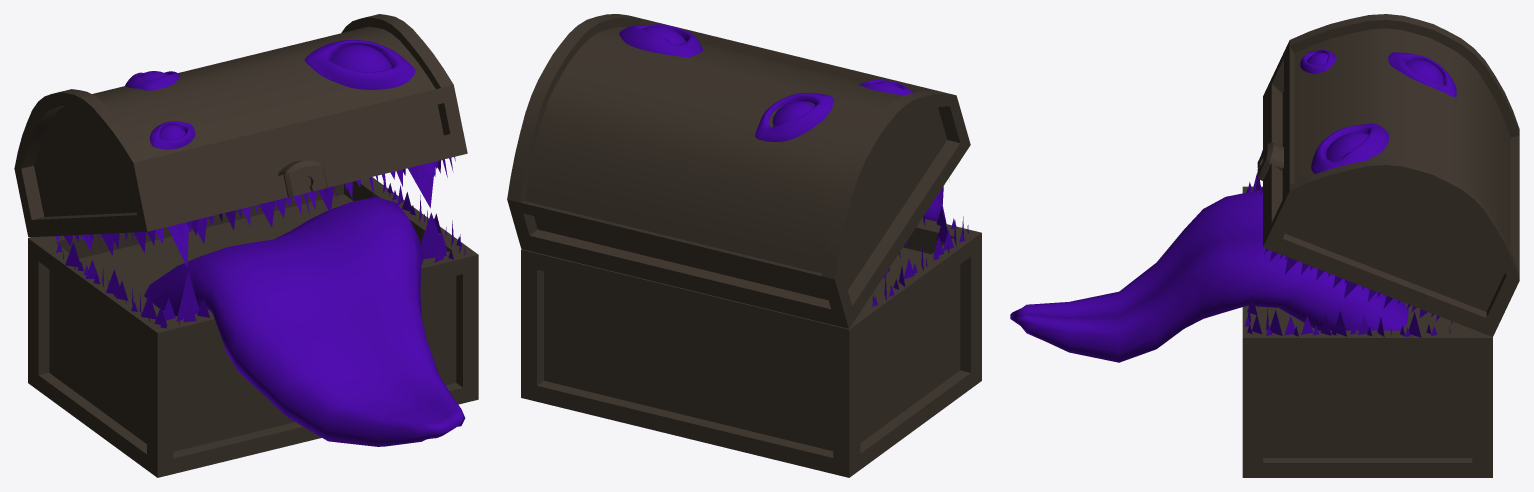
File: mimic.fbx
The picture shows the model from 3 angles, left to right: view 1: azimuth 30°, elevation 25°; view 2: azimuth 150°, elevation 25°; view 3: azimuth 270°, elevation 25°; orthographic projection. The views are drawn at different scales.
Parts seen in each view (by area): view 1: lid, base, tongue, lid_teeth, eye, base_teeth, keyhole_top, eye1, eye2; view 2: lid, base, eye2, eye, base_teeth, eye1; view 3: lid, base, tongue, eye, base_teeth, eye2, lid_teeth, eye1, keyhole_top.
Part boxes in pixels (bbox=[...]): lid: bbox=[14, 14, 467, 237]; base: bbox=[28, 177, 478, 477]; tongue: bbox=[144, 197, 465, 446]; lid_teeth: bbox=[55, 157, 455, 267]; eye: bbox=[304, 40, 415, 89]; base_teeth: bbox=[56, 179, 465, 328]; keyhole_top: bbox=[278, 160, 327, 197]; eye1: bbox=[149, 121, 195, 149]; eye2: bbox=[125, 71, 180, 90]; lid: bbox=[507, 14, 970, 328]; base: bbox=[521, 218, 981, 477]; eye2: bbox=[755, 92, 834, 141]; eye: bbox=[619, 24, 702, 57]; base_teeth: bbox=[872, 207, 968, 306]; eye1: bbox=[859, 80, 913, 95]; lid: bbox=[1263, 14, 1519, 336]; base: bbox=[1242, 186, 1492, 477]; tongue: bbox=[1010, 189, 1408, 362]; eye: bbox=[1311, 123, 1389, 174]; base_teeth: bbox=[1244, 168, 1450, 337]; eye2: bbox=[1388, 52, 1456, 97]; lid_teeth: bbox=[1260, 150, 1452, 323]; eye1: bbox=[1300, 50, 1336, 73]; keyhole_top: bbox=[1257, 142, 1283, 180].
Bounding box in the file's own units: 6.21 × 6.02 × 8.84.
